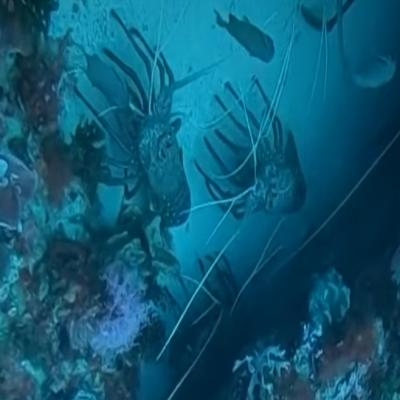lobster: (221, 100, 308, 217), (130, 60, 189, 224)
